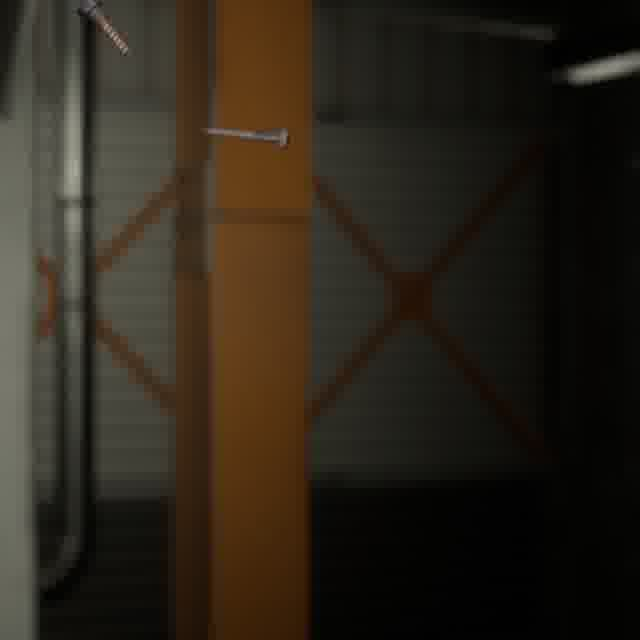bolt: (71, 0, 136, 61), (196, 122, 294, 153)
